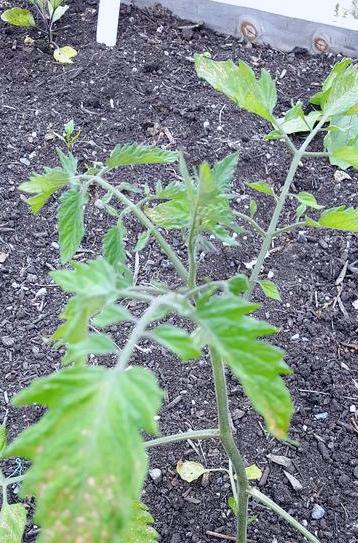Tomato leaf bacterial spot: (23, 332, 169, 543), (185, 288, 307, 443), (187, 46, 282, 133), (304, 55, 358, 132)
